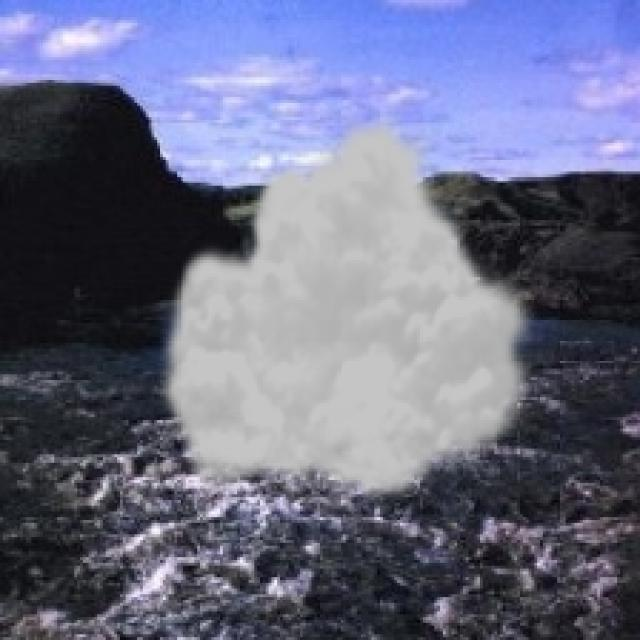smoke: (154, 108, 543, 503)
